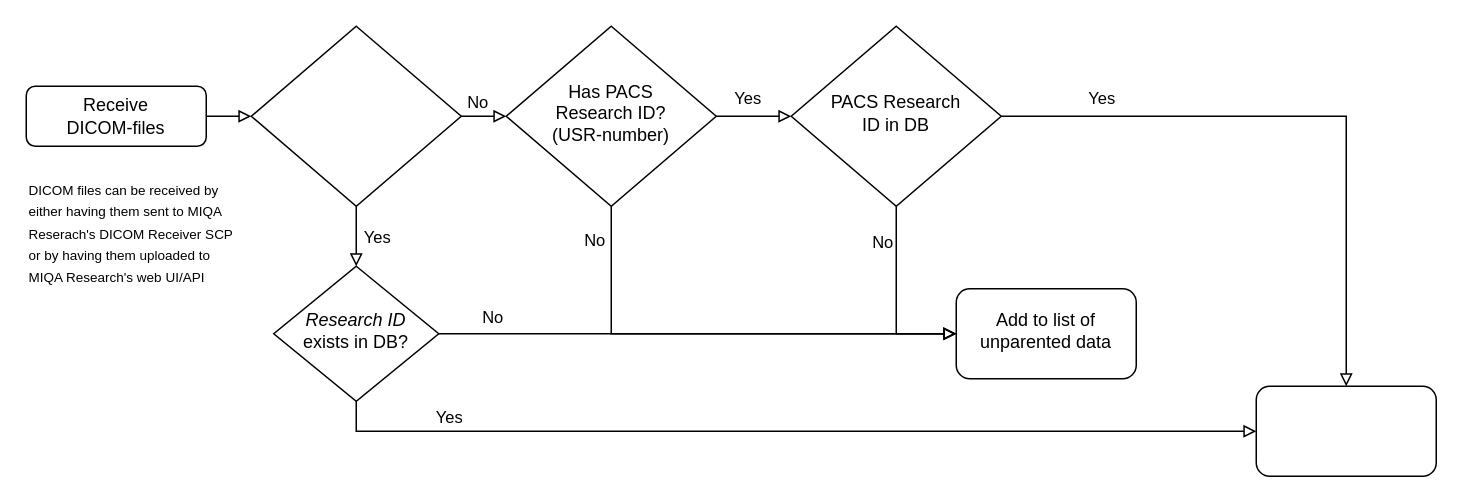
Some shapes in this 1463 by 503 pixel diagram are drawn without their labels. Here are the shapes that lost their labels. From the top down, the box of each, then its label:
(250, 25, 461, 206): Has private MIQA DICOM tag with Research ID ?
(1255, 385, 1436, 476): Store in DB and connect to research project
